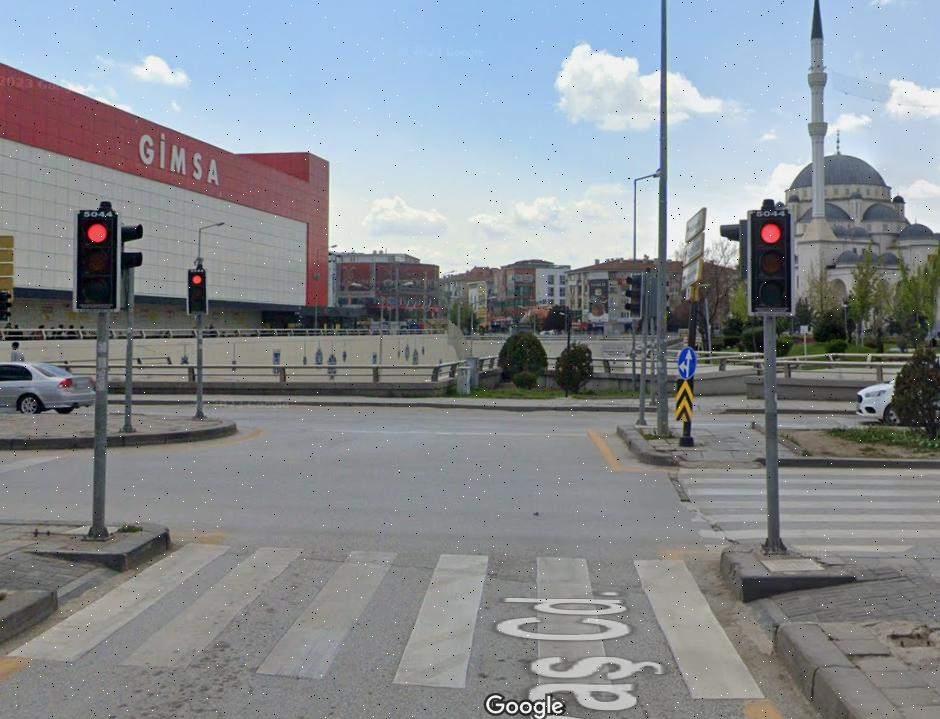stop: (750, 215, 795, 311), (78, 210, 114, 307), (189, 268, 208, 309)
